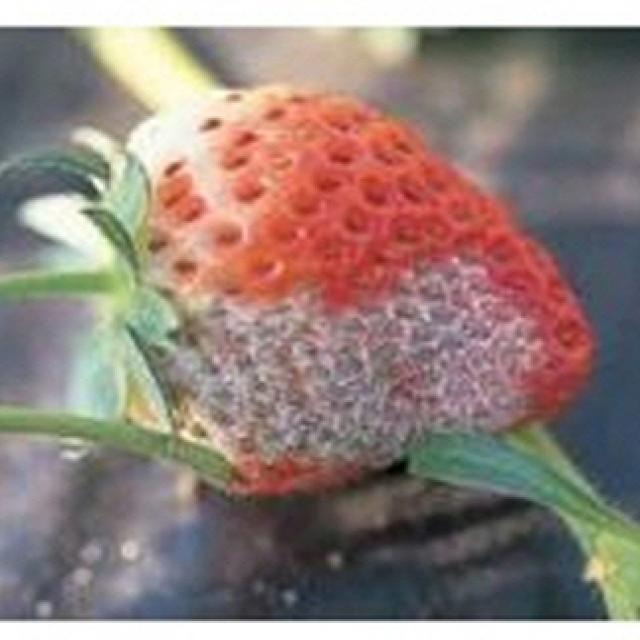Gray Mold: (131, 243, 556, 476)
